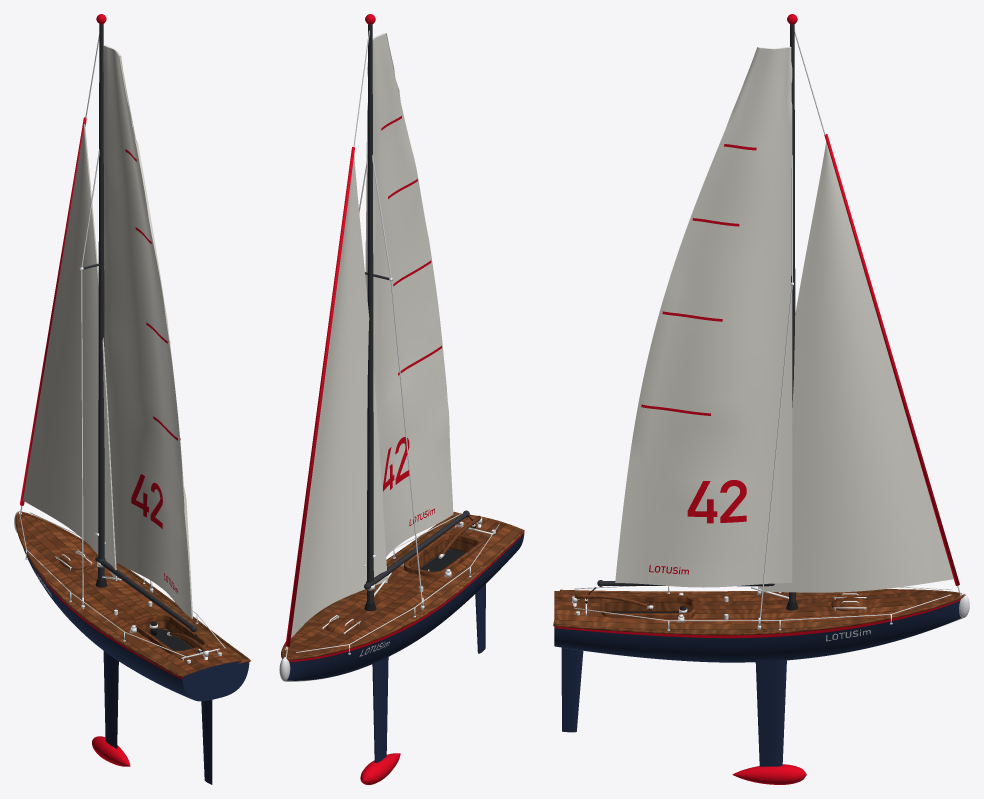
The model's file is focus_v2.fbx.
The picture shows the model from 3 angles, left to right: view 1: azimuth 30°, elevation 25°; view 2: azimuth 150°, elevation 25°; view 3: azimuth 270°, elevation 25°; orthographic projection. The views are drawn at different scales.
Visible parts, largest first — view 1: Mainsail, Jib, Hull, Mast, RubRail, Keel, Rudder, Rigging, CockpitCoaming, Boom, Bulb; view 2: Mainsail, Jib, Hull, Mast, Keel, RubRail, Rigging, CockpitCoaming, Rudder, Boom, Bulb, CockpitFloor; view 3: Mainsail, Jib, Hull, Keel, RubRail, Rudder, CockpitCoaming, Mast, Rigging, Bulb.
Part boxes in pixels (x1,y1,x2,y2): Mainsail: (103,45,192,618); Jib: (20,117,117,580); Hull: (18,513,249,701); Mast: (83,14,106,580); RubRail: (15,511,250,676); Keel: (103,651,118,748); Rudder: (167,632,212,784); Rigging: (20,34,153,608); CockpitCoaming: (133,613,207,654); Boom: (95,556,196,631); Bulb: (92,736,130,766); Mainsail: (365,33,453,556); Jib: (285,147,387,646); Hull: (284,513,524,681); Mast: (365,14,389,603); Keel: (372,657,388,762); RubRail: (281,511,522,660); Rigging: (285,30,424,657); CockpitCoaming: (404,532,481,577); Rudder: (438,515,485,653); Boom: (364,510,469,589); Bulb: (360,753,400,784); CockpitFloor: (420,549,465,571); Mainsail: (615,46,792,587); Jib: (759,134,959,592); Hull: (554,591,962,662); Keel: (755,660,786,766); RubRail: (553,589,965,635); Rudder: (561,594,653,732); CockpitCoaming: (600,595,695,619); Mast: (787,14,797,602); Rigging: (757,30,960,628); Bulb: (732,764,806,784).
Bounding box in the file's own units: 24.47 × 206 × 101.
13 materials, 1 textured.
